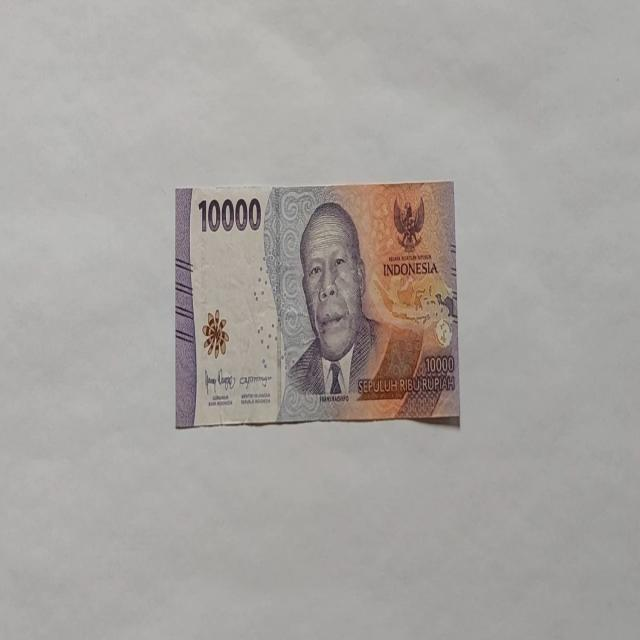sepuluh ribu rupiah: (174, 180, 460, 428), (273, 198, 421, 422)
